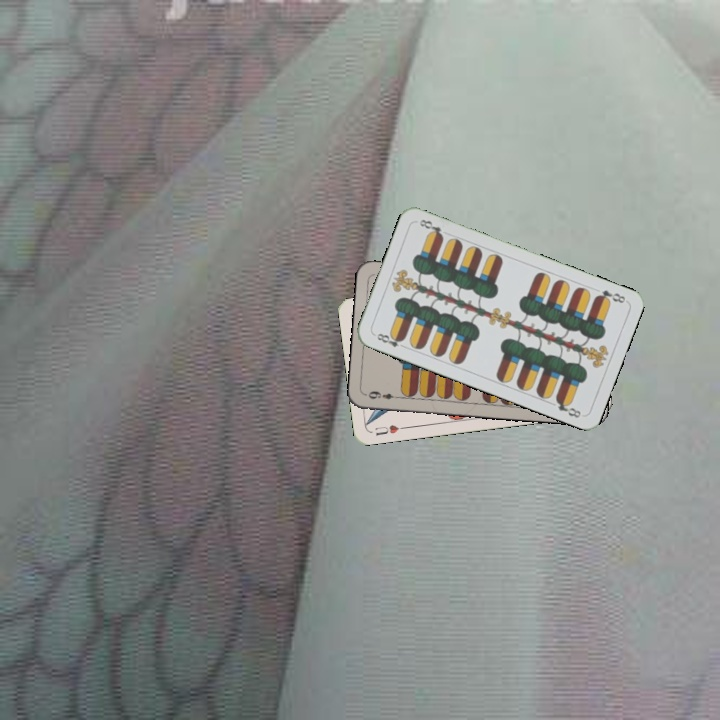E8: (371, 329, 409, 351), (591, 286, 628, 306)
E9: (364, 387, 403, 402)
HU: (371, 421, 409, 438)
